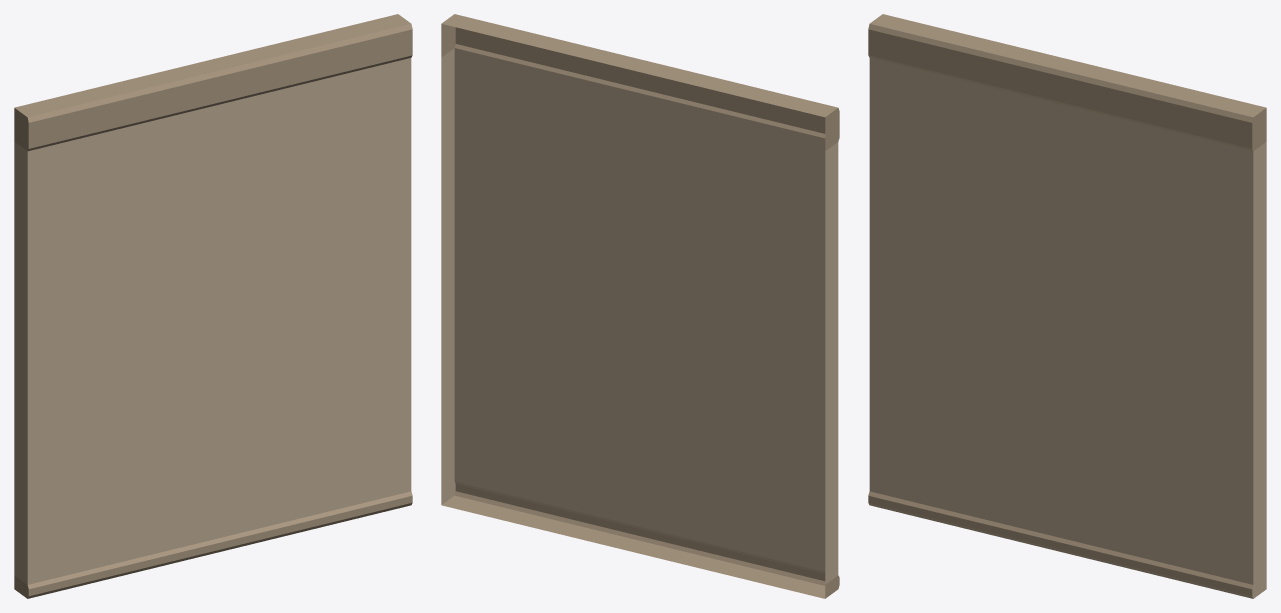
File: SM_Bld_Wall_Trim_01.glb
The picture shows the model from 3 angles, left to right: view 1: azimuth 30°, elevation 25°; view 2: azimuth 150°, elevation 25°; view 3: azimuth 330°, elevation 25°; orthographic projection.
Parts seen in each view (by area): view 1: SM_Bld_Wall_Trim_01; view 2: SM_Bld_Wall_Trim_01; view 3: SM_Bld_Wall_Trim_01.
Part boxes in pixels (x1,y1,x2,y2): SM_Bld_Wall_Trim_01: (14,14,412,598); SM_Bld_Wall_Trim_01: (441,14,839,598); SM_Bld_Wall_Trim_01: (868,14,1266,598).
Size of the model in its own units: 2.5 by 3 by 0.1636.
Materials: 1 (1 with a texture image).
